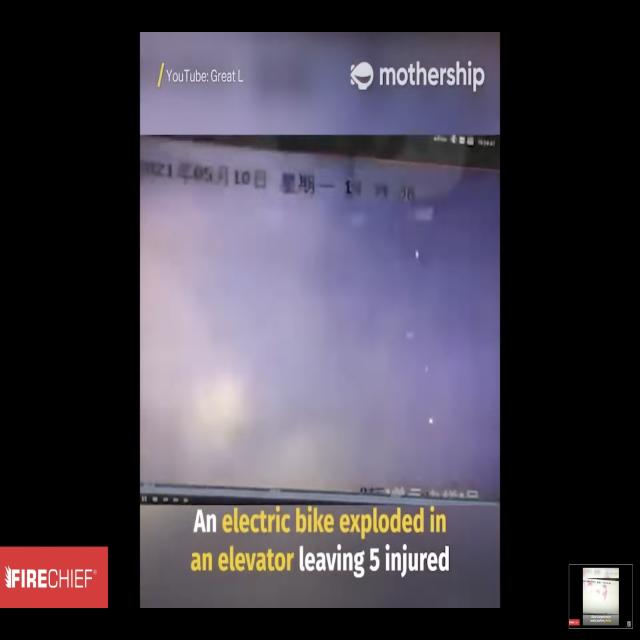Atencao: (153, 200, 500, 499)
Fogo: (185, 351, 282, 455)
